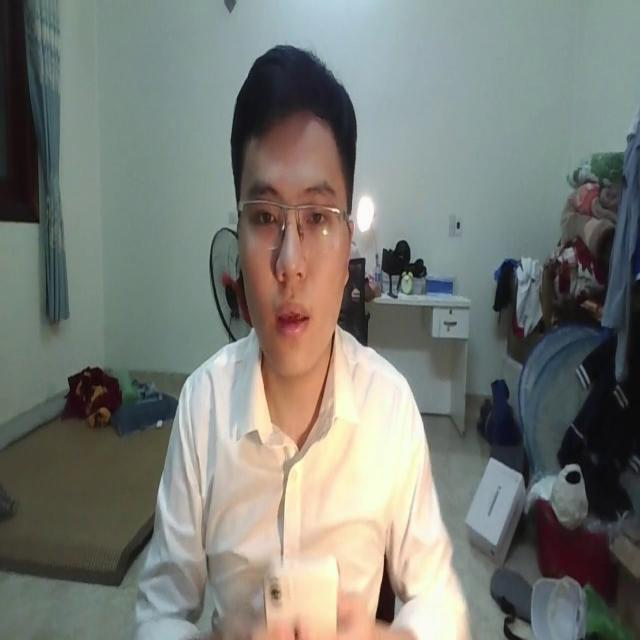phone: (260, 549, 340, 640)
student: (132, 46, 466, 640)
